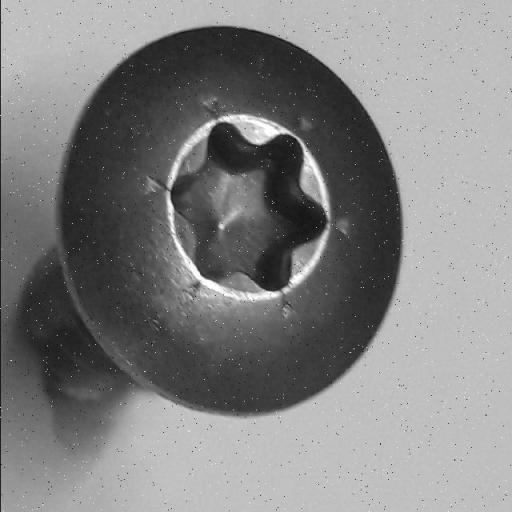Torx: (45, 21, 405, 434)
